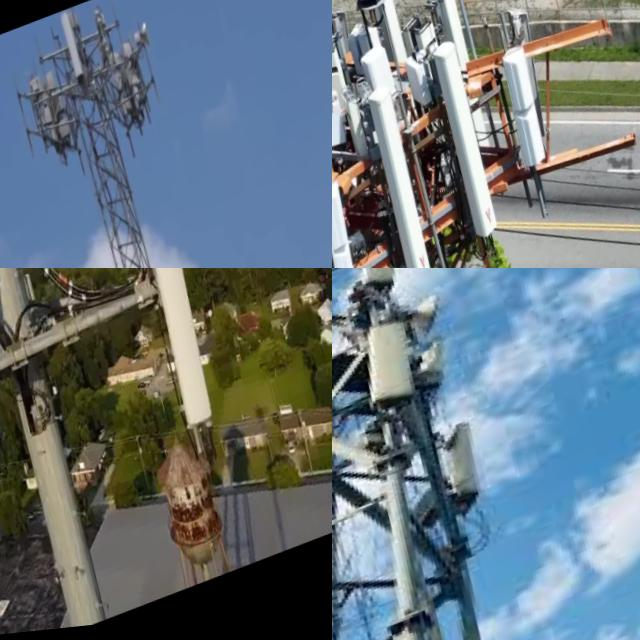GSM Antenna: (423, 39, 520, 267), (358, 87, 451, 268), (155, 268, 225, 450), (354, 310, 438, 431), (492, 45, 561, 191), (420, 0, 480, 81), (53, 7, 99, 108), (332, 178, 379, 268), (352, 43, 405, 107), (344, 268, 405, 304)
Microwave Antenna: (426, 339, 465, 407), (410, 291, 455, 345), (131, 23, 155, 61)
